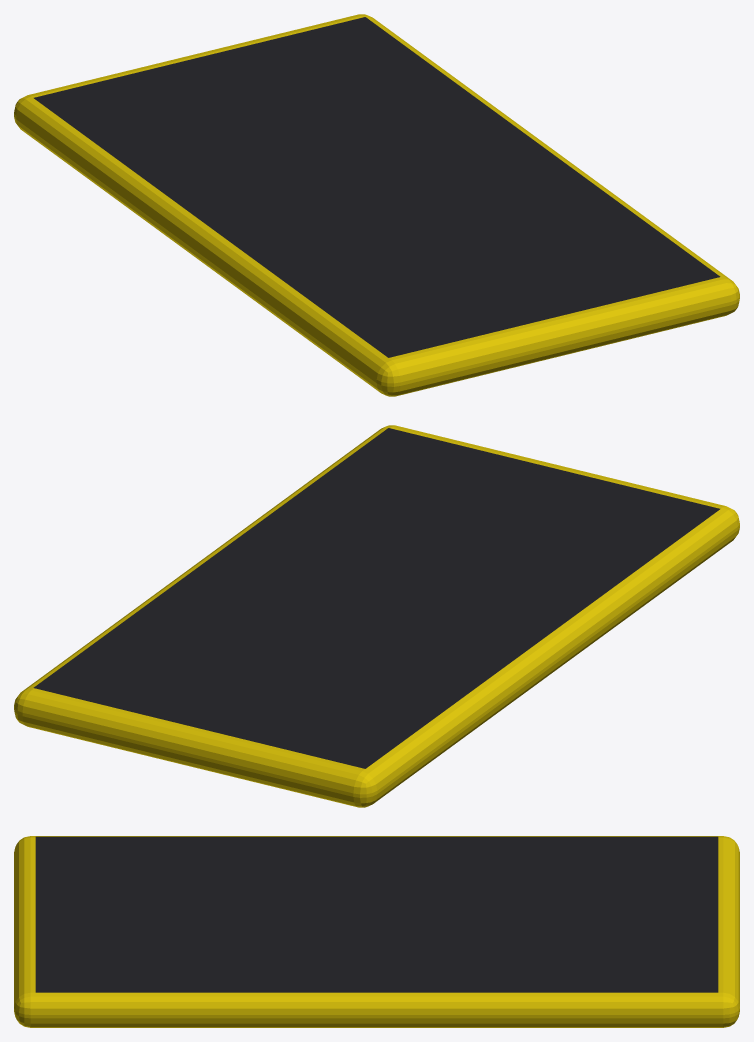
The model's file is iqoo-number-series-model-219-flagship-2021.glb.
3 views of the same model, one above another, from view 1: azimuth 30°, elevation 25°; view 2: azimuth 150°, elevation 25°; view 3: azimuth 270°, elevation 25° (orthographic). The views are drawn at different scales.
Visible parts, largest first — view 1: Phone_Screen, Phone_Body; view 2: Phone_Screen, Phone_Body; view 3: Phone_Screen, Phone_Body.
Boxes of the visible parts, x1,y1,x2,y2 form: Phone_Screen: (34,17,720,357); Phone_Body: (14,14,739,396); Phone_Screen: (33,428,719,768); Phone_Body: (14,425,739,807); Phone_Screen: (35,836,718,992); Phone_Body: (14,836,739,1027).
Bounding box in the file's own units: 0.0785 × 0.0074 × 0.1423.
